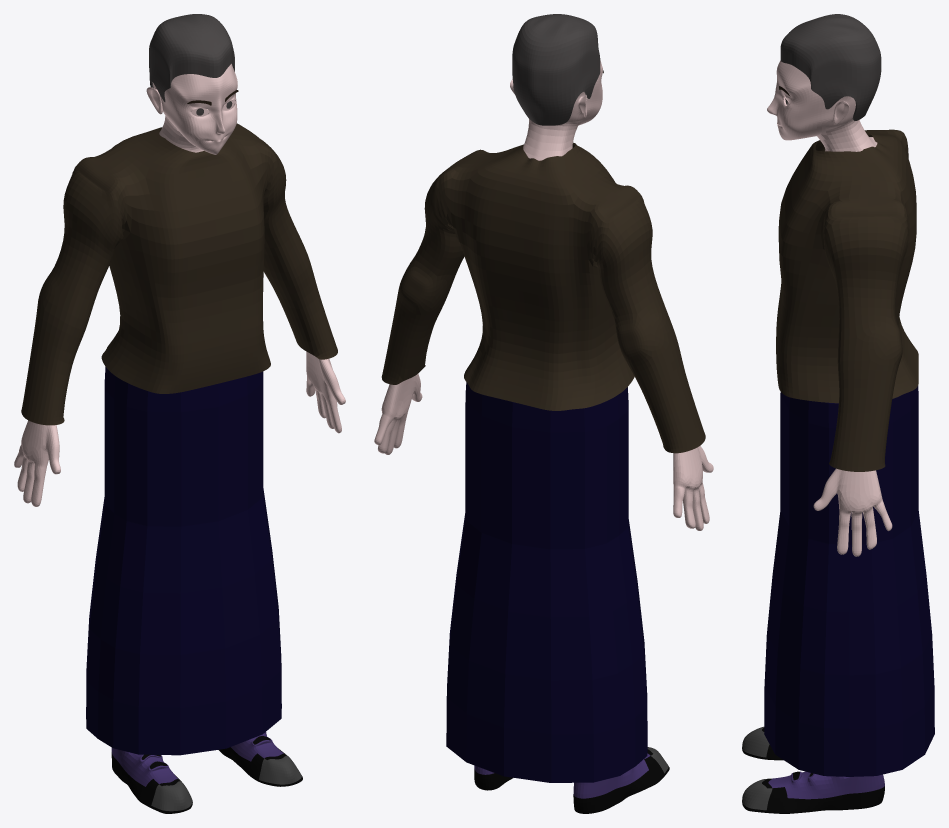
File: lidia.fbx
3 renders of one model, left to right at view 1: azimuth 30°, elevation 25°; view 2: azimuth 150°, elevation 25°; view 3: azimuth 270°, elevation 25°, orthographic. The views are drawn at different scales.
Parts seen in each view (by area): view 1: Cube, Body.002, Body, Shoes, Hair_lidia; view 2: Cube, Body.002, Hair_lidia, Body, Shoes; view 3: Cube, Body.002, Body, Hair_lidia, Shoes.
Part boxes in pixels (x1,y1,x2,y2): Cube: (86,367,281,755); Body.002: (21,123,337,425); Body: (14,63,345,506); Shoes: (111,732,302,813); Hair_lidia: (149,14,234,101); Cube: (446,382,647,782); Body.002: (381,142,705,453); Hair_lidia: (512,14,600,125); Body: (374,60,713,530); Shoes: (474,747,669,813); Cube: (764,385,934,776); Body.002: (776,129,918,471); Body: (767,60,892,556); Hair_lidia: (780,14,881,120); Shoes: (742,726,884,813).
Size of the model in its own units: 67.01 by 154 by 35.51.
